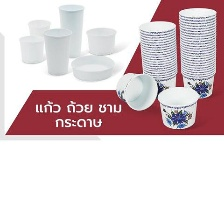paper_cup: (175, 4, 218, 101), (135, 17, 179, 100), (153, 84, 202, 132), (112, 70, 160, 113), (41, 24, 74, 78), (55, 2, 86, 59), (68, 51, 118, 84), (83, 23, 119, 57), (15, 32, 51, 66), (25, 15, 53, 40)
